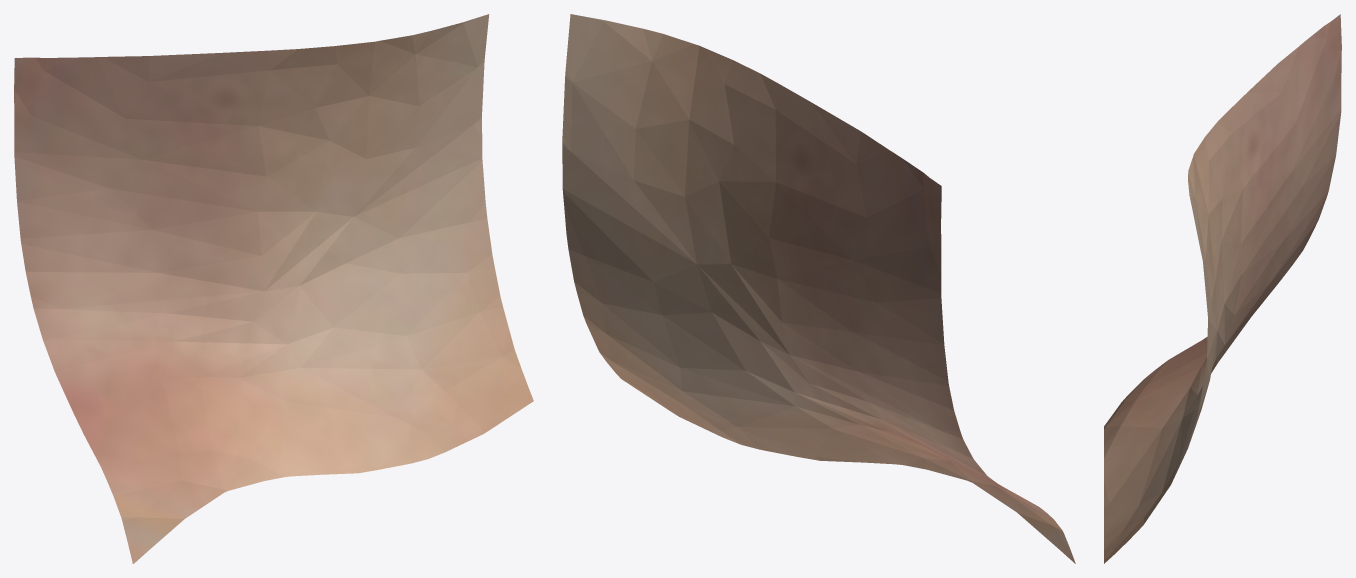
The picture shows the model from 3 angles, left to right: view 1: azimuth 30°, elevation 25°; view 2: azimuth 150°, elevation 25°; view 3: azimuth 270°, elevation 25°; orthographic projection. The views are drawn at different scales.
Size of the model in its own units: 42.87 by 42.87 by 22.03.
Materials: 1 (1 with a texture image).
